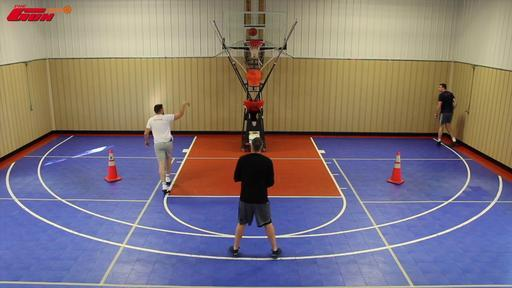ball: (248, 28, 258, 36)
human: (230, 137, 283, 259), (144, 102, 191, 194), (434, 81, 458, 147)
rim: (244, 40, 265, 58)
